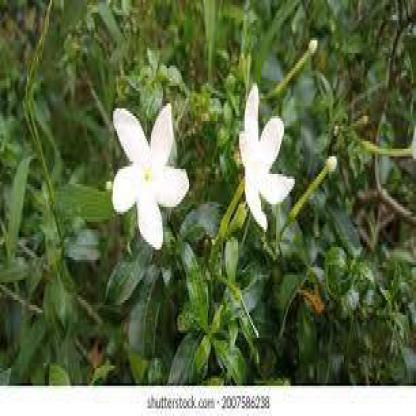Melati: (220, 61, 318, 276), (102, 87, 189, 253)
